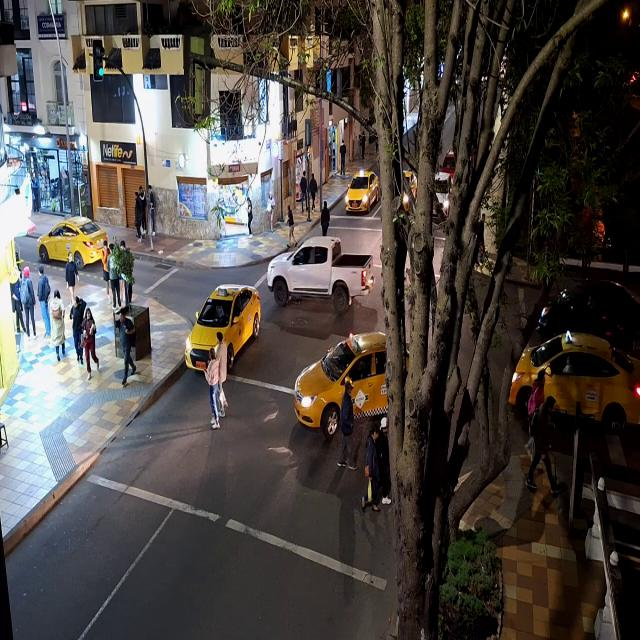CMT: (266, 238, 371, 307)
SED: (512, 337, 638, 421), (296, 334, 386, 424), (187, 284, 256, 363), (38, 219, 106, 263), (345, 172, 377, 212)
